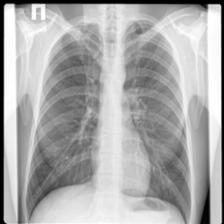tuberculosis: (23, 15, 195, 224)
